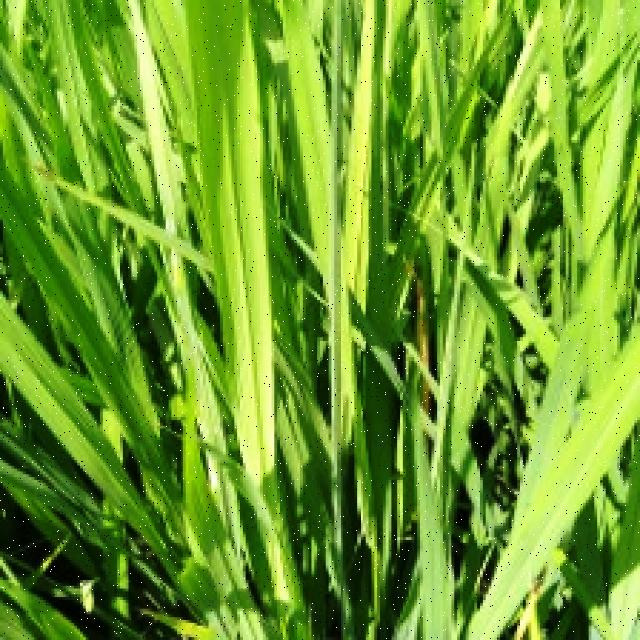health: (60, 0, 408, 640)
